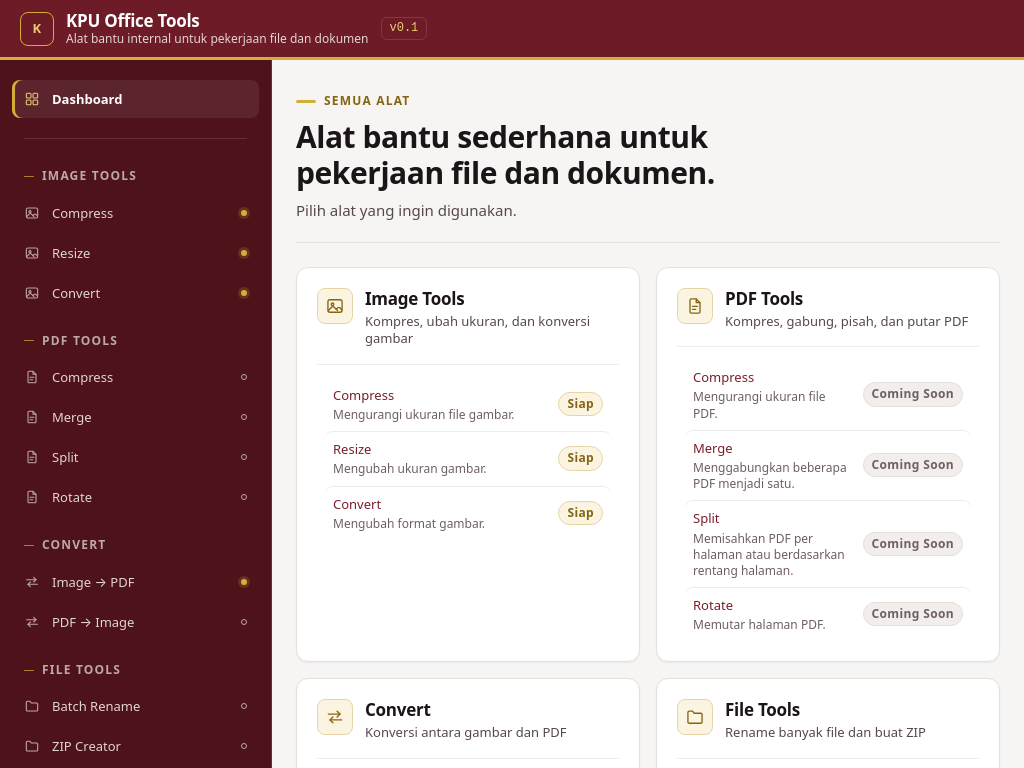
navigasi: interaksi menu › klik menu Split lalu Dashboard kembali ke dashboard
Click the 1st link "Split": (32, 457) [12,438,259,476]
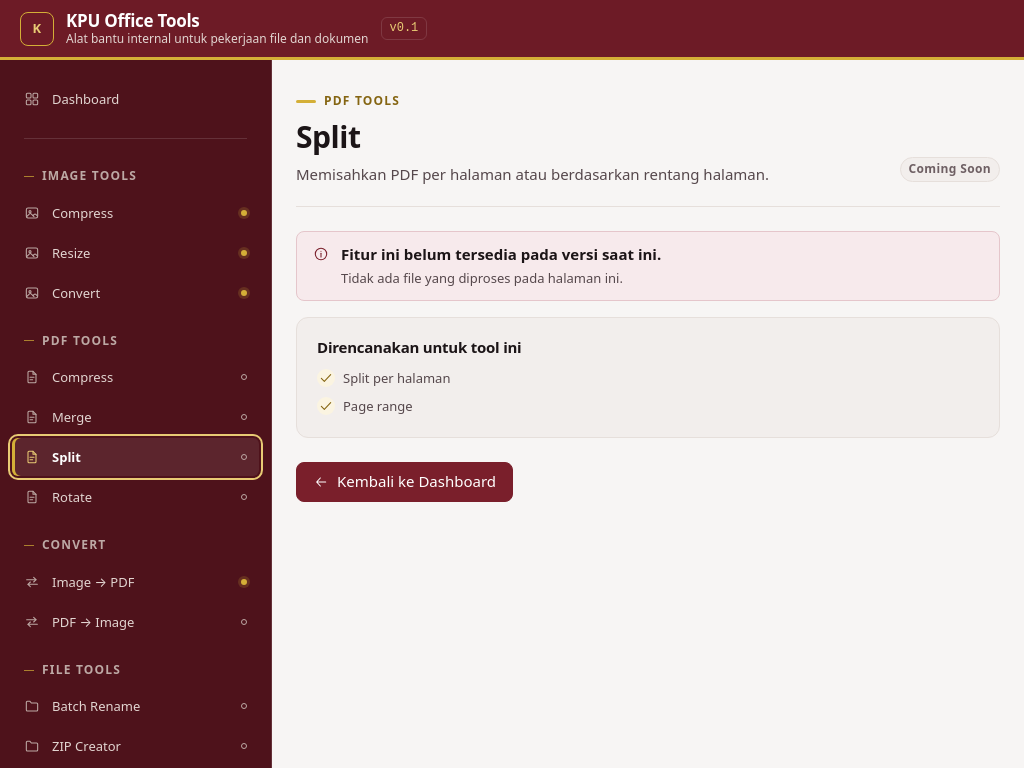
Expected: the heading "Split" is shown, [296,116,361,157]
Click the link "Dashboard": (72, 99) [24,90,119,108]
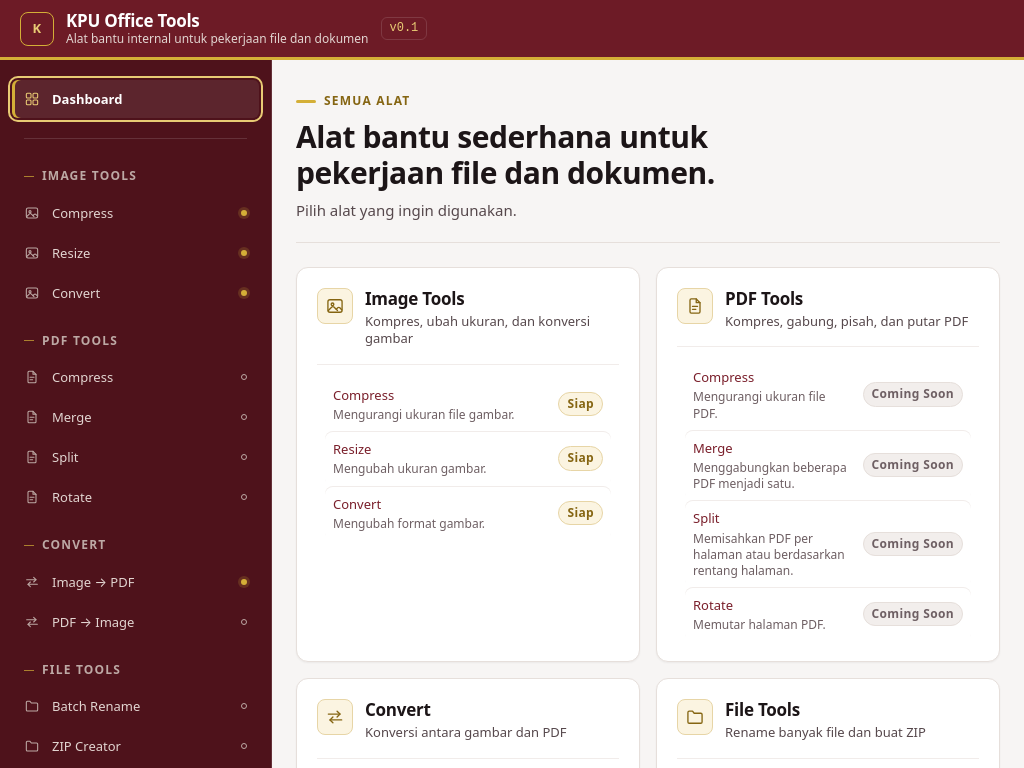
Expected: the heading "Alat bantu sederhana untuk pekerjaan file dan dokumen." is shown, [296,116,715,193]
